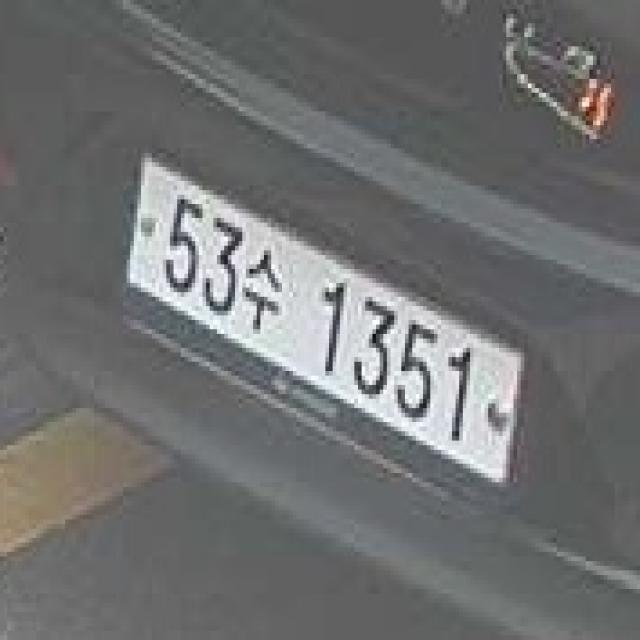1: (437, 315, 481, 464), (307, 246, 347, 408)
3: (202, 181, 246, 348), (354, 269, 398, 427)
5: (152, 172, 202, 316), (394, 292, 438, 445)
license_plate: (109, 135, 532, 524)
su: (239, 227, 282, 334)
